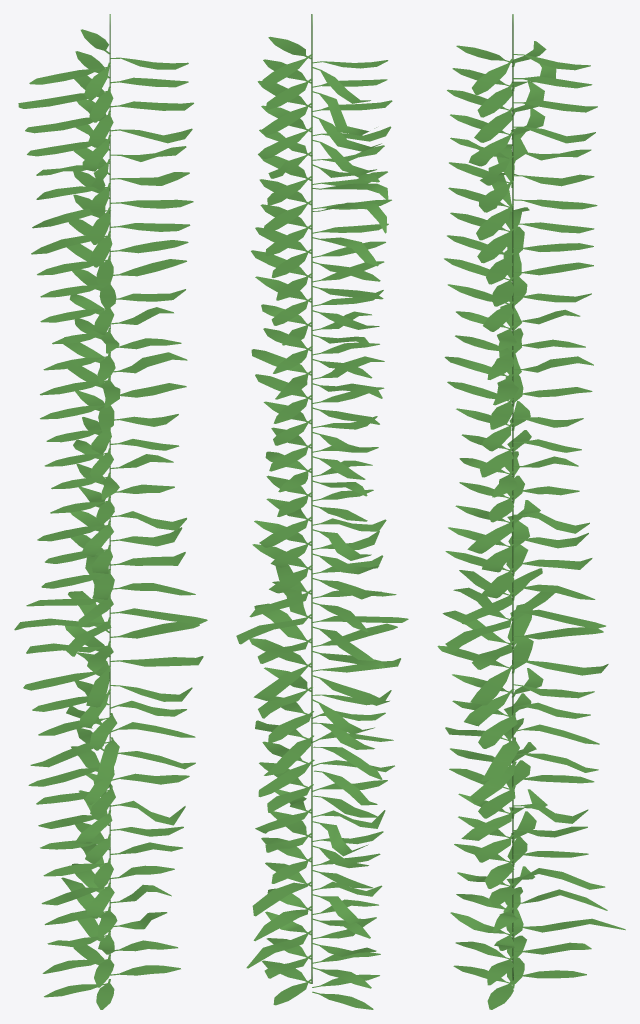
Rendered from kelp.fbx.
The picture shows the model from 3 angles, left to right: view 1: azimuth 30°, elevation 25°; view 2: azimuth 150°, elevation 25°; view 3: azimuth 270°, elevation 25°; orthographic projection.
Visible parts, largest first — view 1: kelp; view 2: kelp; view 3: kelp.
Boxes of the visible parts, x1,y1,x2,y2 form: kelp: (14,14,207,1009); kelp: (236,14,408,1009); kelp: (437,14,625,1009).
Bounding box in the file's own units: 1739 × 10086 × 1767.
